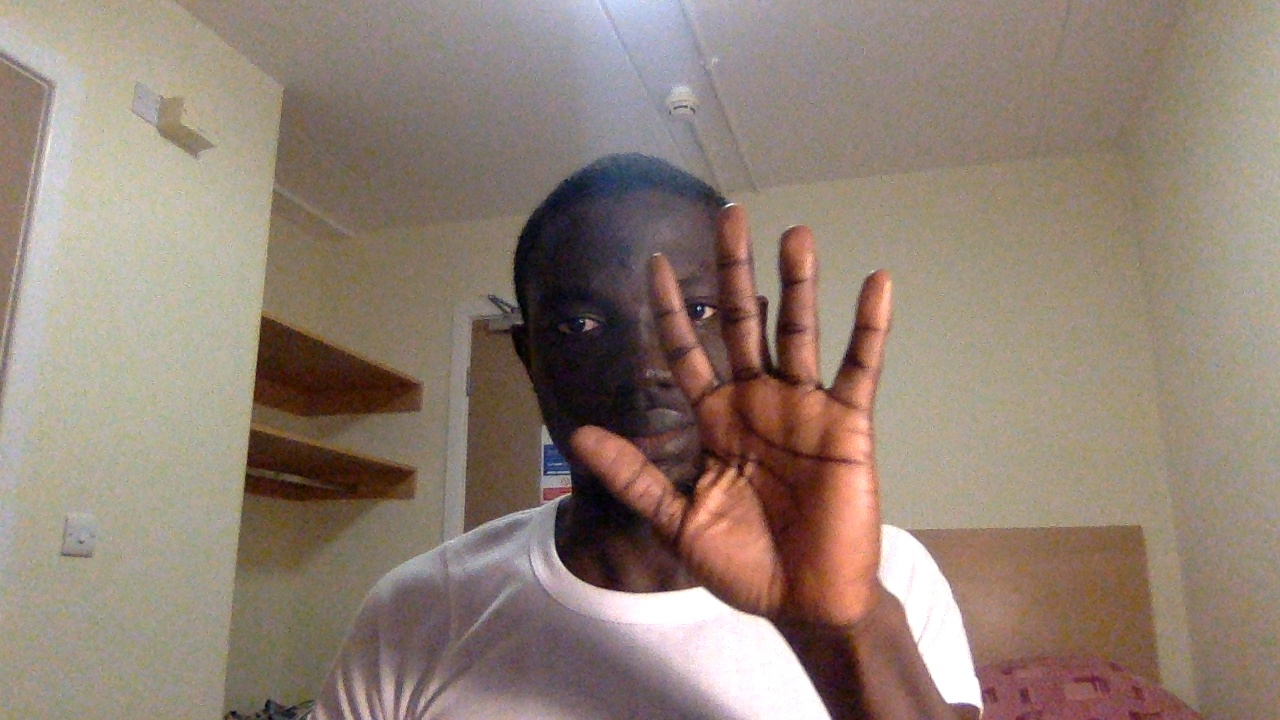Hello: (569, 196, 911, 649)
